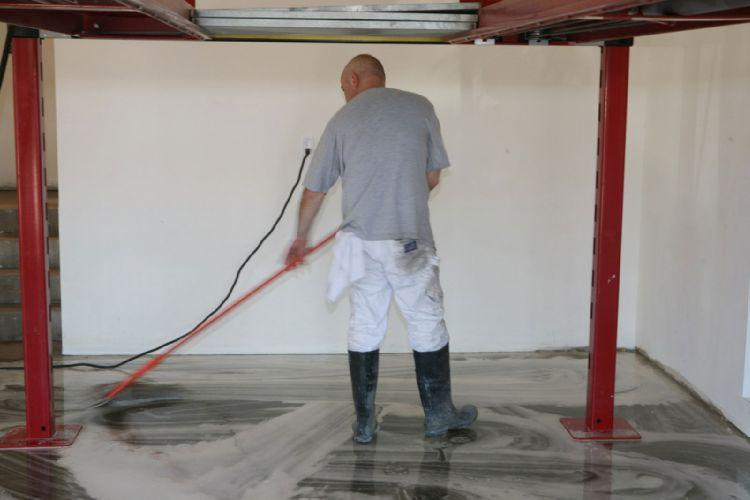person: (281, 54, 478, 444)
